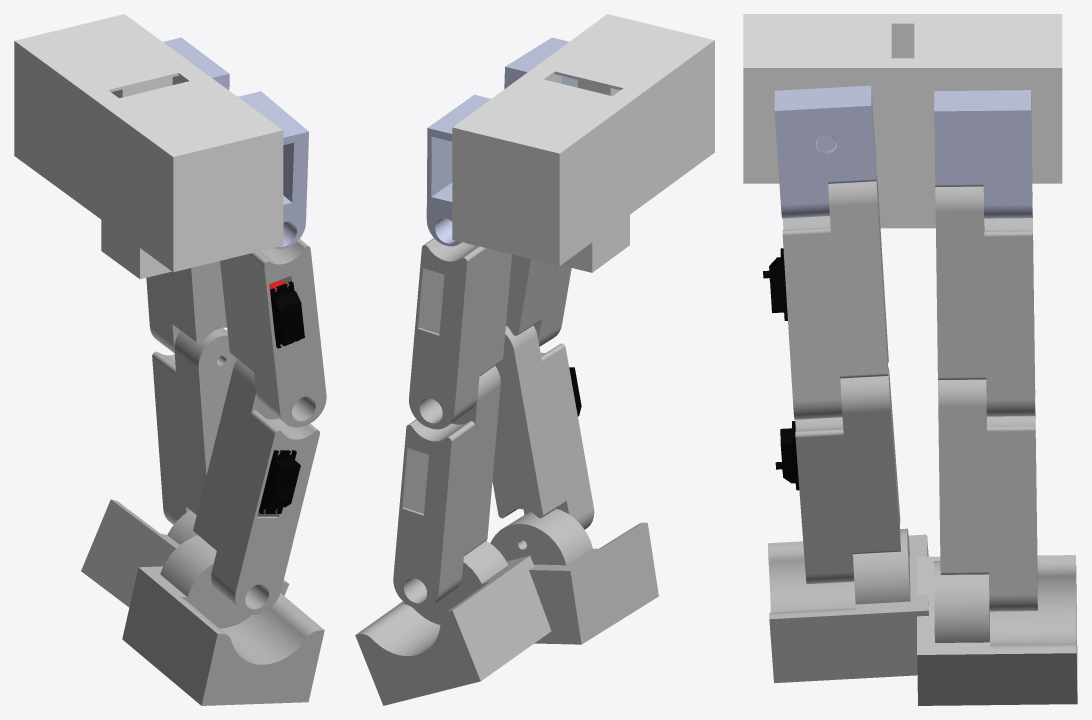
File: Mainbipedalassmebly2.fbx
3 renders of one model, left to right at view 1: azimuth 30°, elevation 25°; view 2: azimuth 150°, elevation 25°; view 3: azimuth 270°, elevation 25°, orthographic. The views are drawn at different scales.
Visible parts, largest first — view 1: Body1 (×9), Solid1 (×2); view 2: Body1 (×9); view 3: Body1 (×9), Solid1 (×2).
Boxes of the visible parts, x1=… form: Body1 (×9): x1=14, y1=14, x2=326, y2=705; Solid1 (×2): x1=259, y1=281, x2=304, y2=513; Body1 (×9): x1=355, y1=14, x2=714, y2=705; Body1 (×9): x1=743, y1=14, x2=1077, y2=705; Solid1 (×2): x1=763, y1=248, x2=799, y2=490.
Size of the model in its own units: 7.36 by 21 by 10.47.
